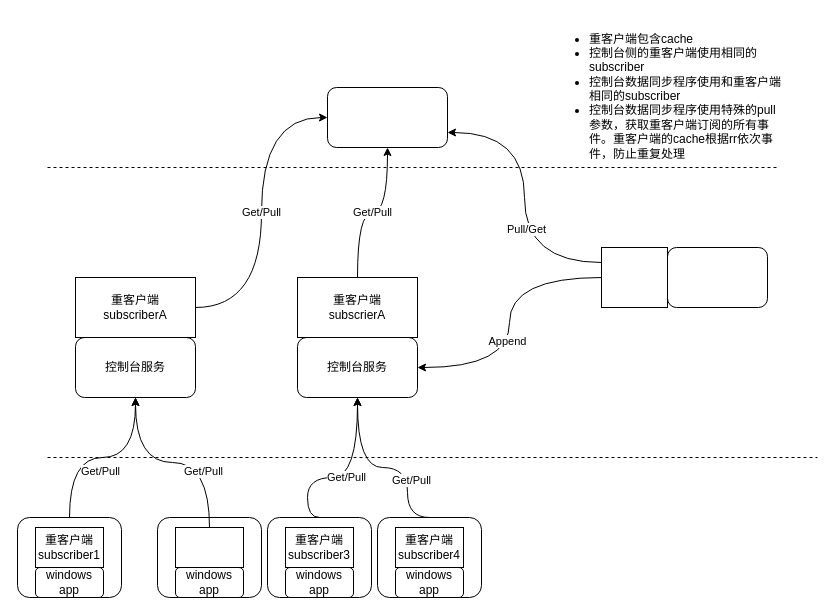
This 836x615 diagram has some shape labels left out. Each missing label, with the centre of its shape:
云端服务: (x=387, y=117)
控制台数据同步服务: (x=717, y=277)
轻客户端 SubscriberA: (x=634, y=277)
重客户端 subscriber2: (x=209, y=547)
